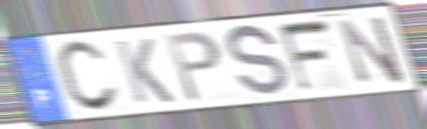C: (53, 38, 122, 115)
F: (275, 16, 336, 96)
K: (111, 37, 177, 105)
N: (334, 13, 409, 86)
P: (163, 28, 225, 105)
S: (225, 21, 291, 101)
